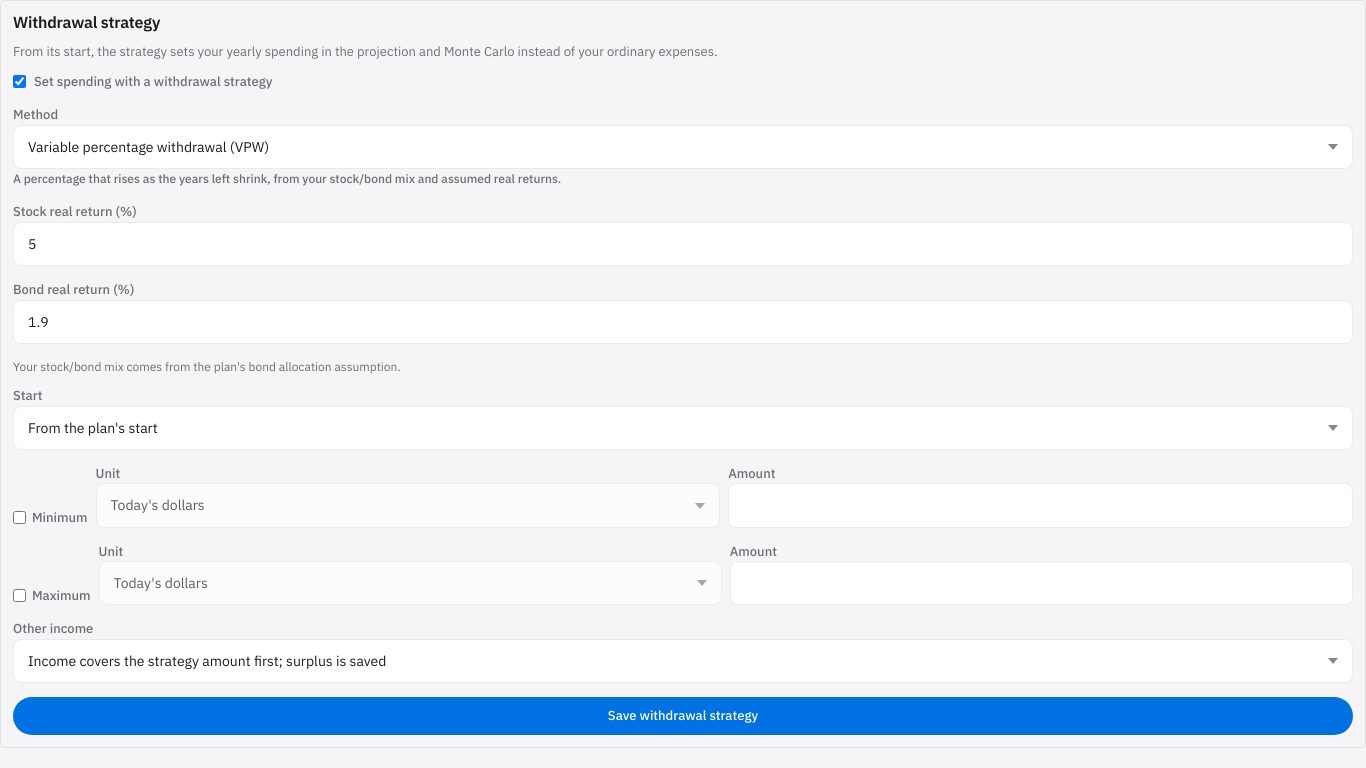
Test case: shows only the chosen method's parameters and requires a fixed amount
Expected: the number field labelled "Stock real return (%)" holds "5", [13,222,1353,266]
Expected: the number field labelled "Bond real return (%)" holds "1.9", [13,300,1353,344]
Select "Fixed amount" in the dropdown labelled "Method" at (683, 147), box [13,125,1353,169]
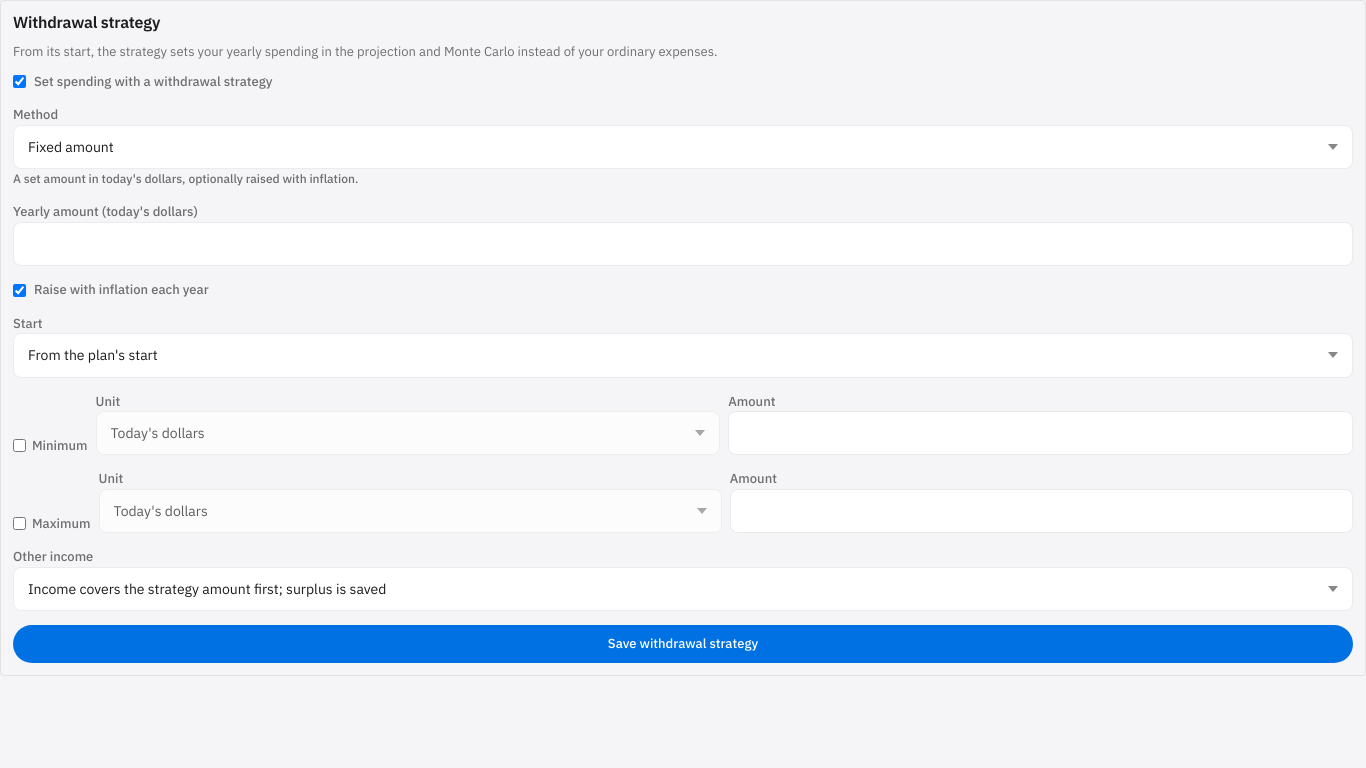
Click the button "Save withdrawal strategy" at (683, 644), box [13,625,1353,663]
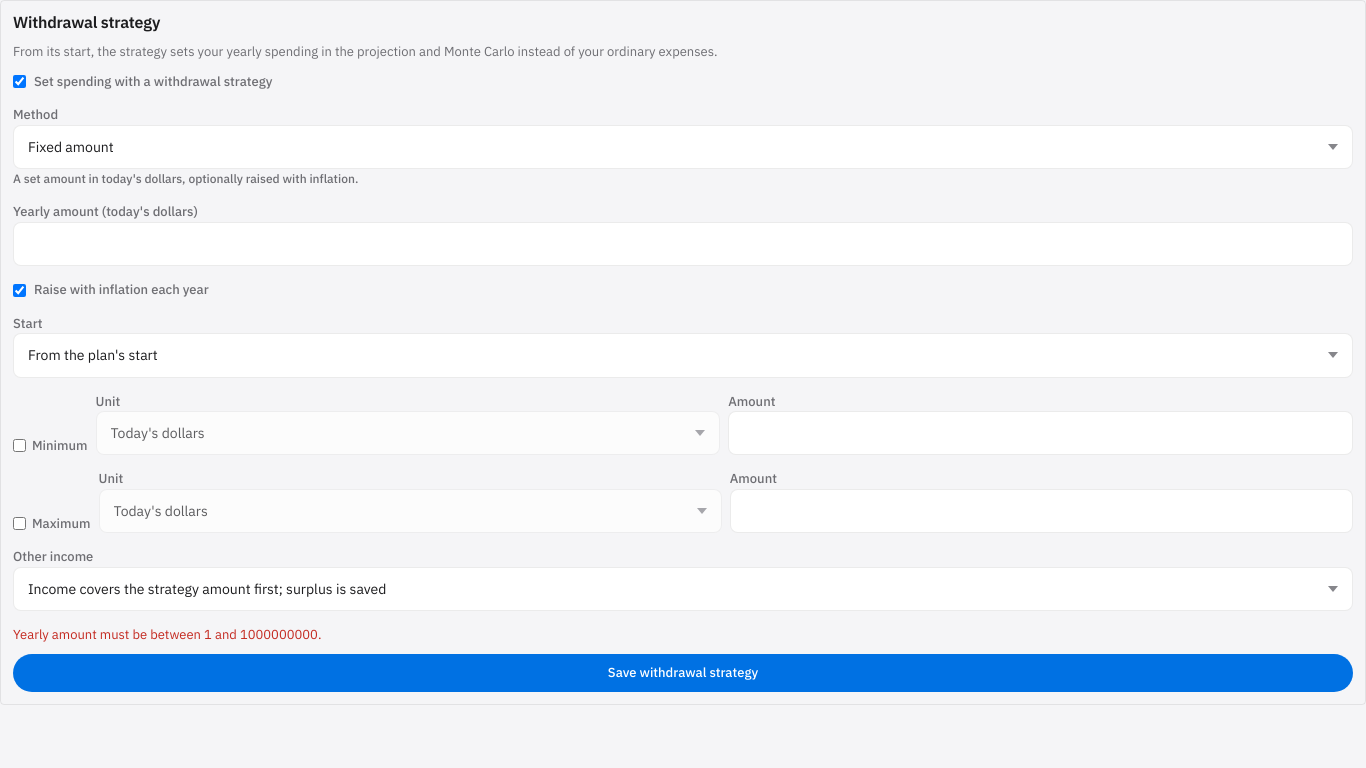
Result: the message shows "Yearly amount" at [13,626,321,643]
